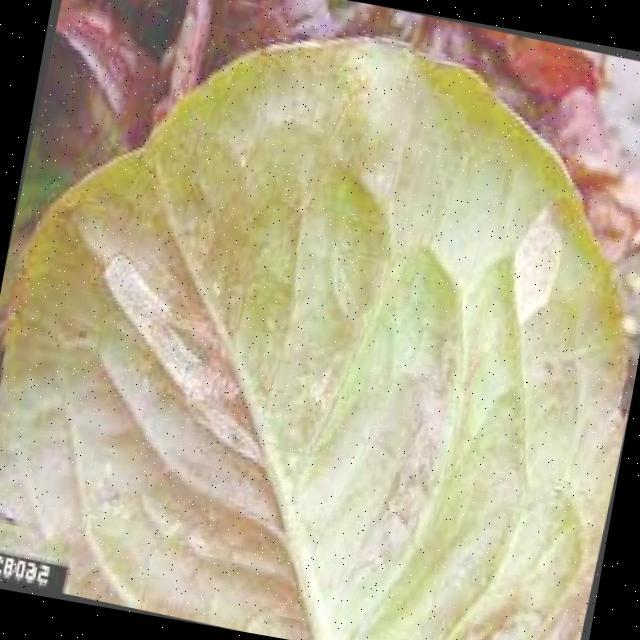Downy_mildew_on_lettuce: (64, 137, 583, 640)
